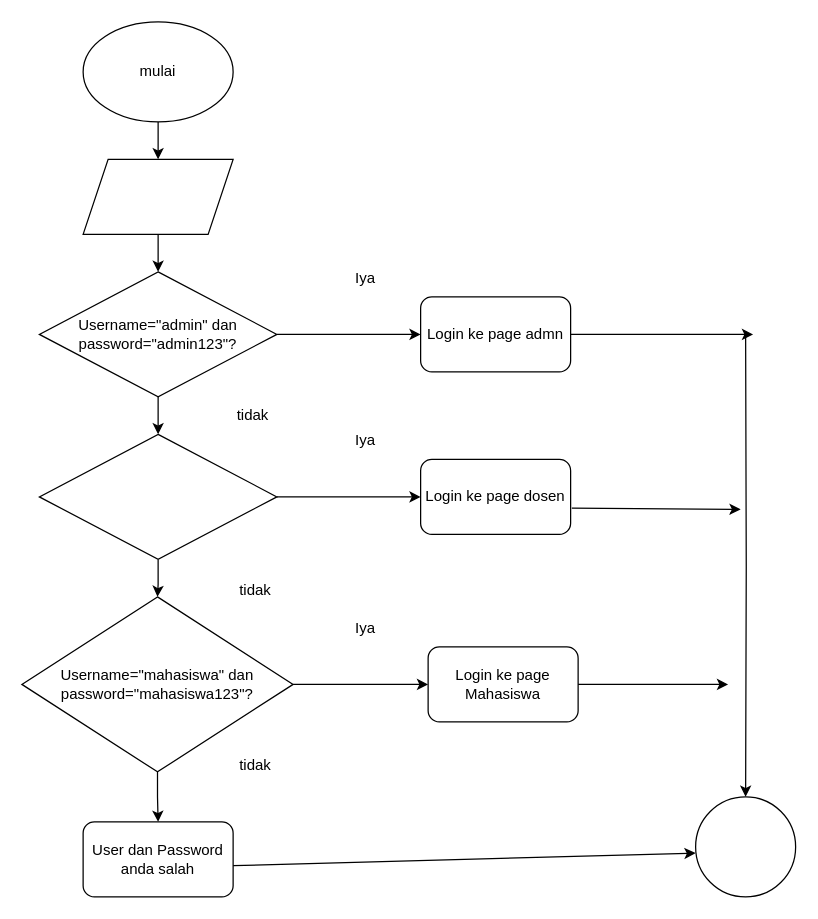
The diagram is 818 pixels wide and 919 high, and some of its shapes have lost their labels. Each missing label, with the centre of its shape:
input username dan password: (x=157, y=196)
selesai: (x=745, y=846)
Username="dosen" dan password="dosen111"?: (x=157, y=496)
